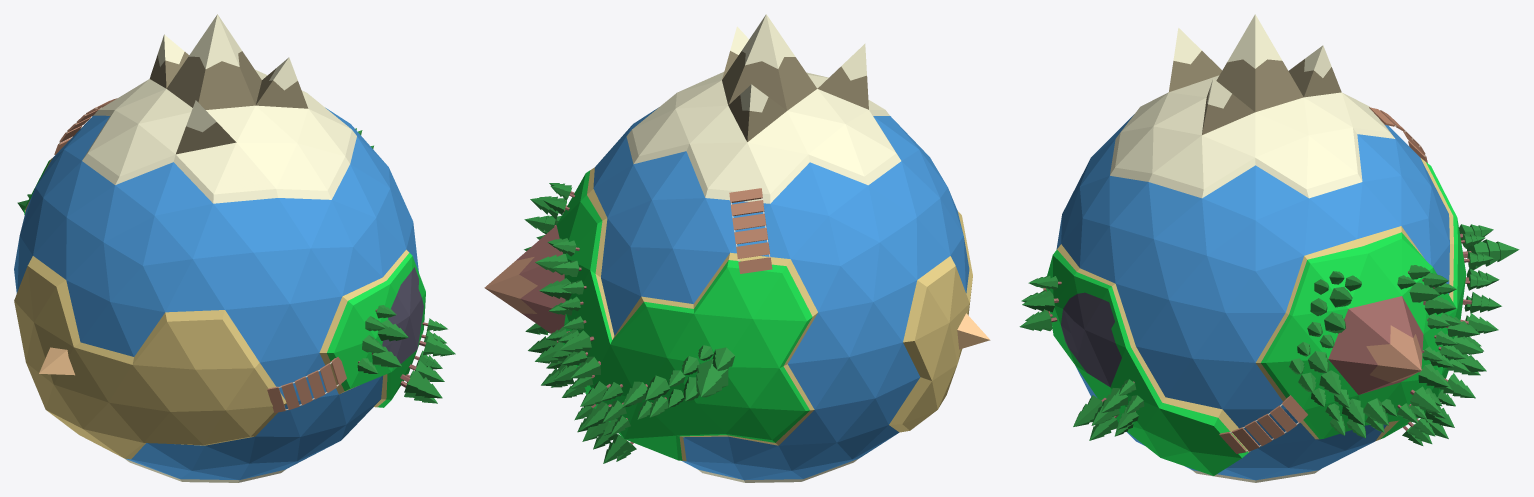
3 views of the same model, side by side, from view 1: azimuth 30°, elevation 25°; view 2: azimuth 150°, elevation 25°; view 3: azimuth 270°, elevation 25° (orthographic).
Visible parts, largest first — view 1: Planet, Cube.002, Cone.002, Cylinder.007, Cube; view 2: Planet, Cube, Cone.236, Cone.002; view 3: Planet, Cube.001, Cone.236, Cube.
Boxes of the visible parts, x1=… form: Planet: x1=14, y1=14, x2=425, y2=482; Cube.002: x1=267, y1=357, x2=346, y2=412; Cone.002: x1=39, y1=347, x2=74, y2=375; Cylinder.007: x1=400, y1=370, x2=442, y2=398; Cube: x1=54, y1=98, x2=117, y2=154; Planet: x1=484, y1=14, x2=972, y2=482; Cube: x1=729, y1=188, x2=772, y2=273; Cone.236: x1=696, y1=359, x2=728, y2=397; Cone.002: x1=957, y1=313, x2=990, y2=349; Planet: x1=1046, y1=14, x2=1466, y2=482; Cube.001: x1=1219, y1=395, x2=1307, y2=453; Cone.236: x1=1463, y1=239, x2=1519, y2=269; Cube: x1=1369, y1=107, x2=1427, y2=162.
Bounding box in the file's own units: 231 × 245 × 246.
